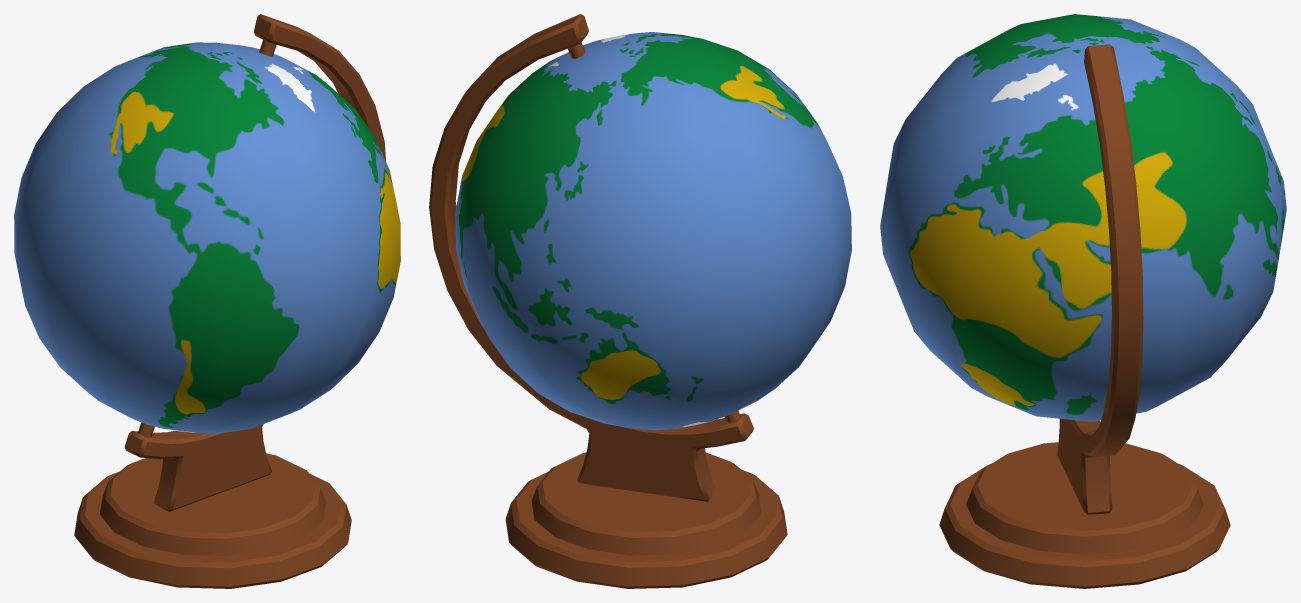
The model's file is Globe.fbx.
3 renders of one model, left to right at view 1: azimuth 30°, elevation 25°; view 2: azimuth 150°, elevation 25°; view 3: azimuth 270°, elevation 25°, orthographic. The views are drawn at different scales.
Parts seen in each view (by area): view 1: Globe; view 2: Globe; view 3: Globe.
Boxes of the visible parts, <box> form: Globe: <box>14,14,400,588</box>; Globe: <box>429,14,851,588</box>; Globe: <box>880,14,1286,588</box>.
Bounding box in the file's own units: 0.3941 × 0.5083 × 0.3643.
